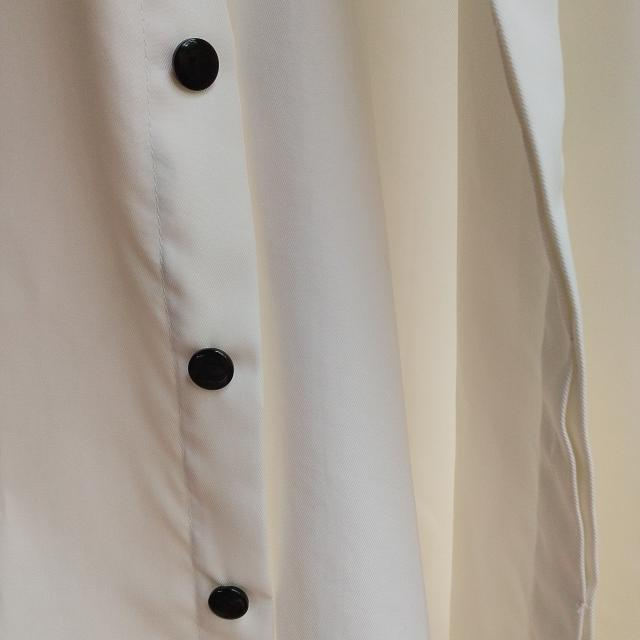education_male_uniform: (26, 0, 459, 640)
